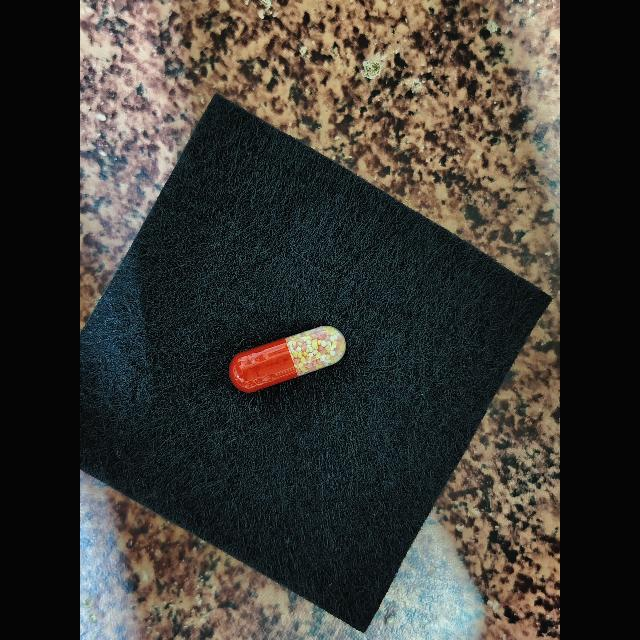Intact Capsule: (229, 326, 346, 392)
